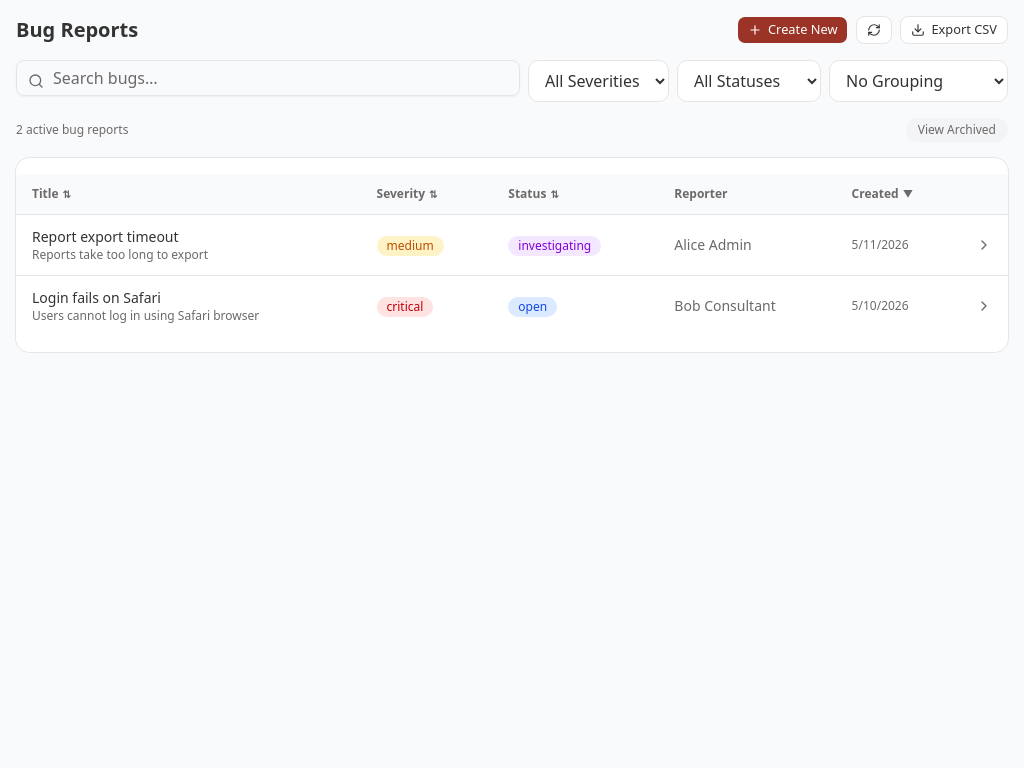
Test: AdminBugs › 9. opens detail panel on row click
Note: Click the first bug row
Step 1. Click the text "Login fails on Safari" → (96, 298), box [32,288,161,307]
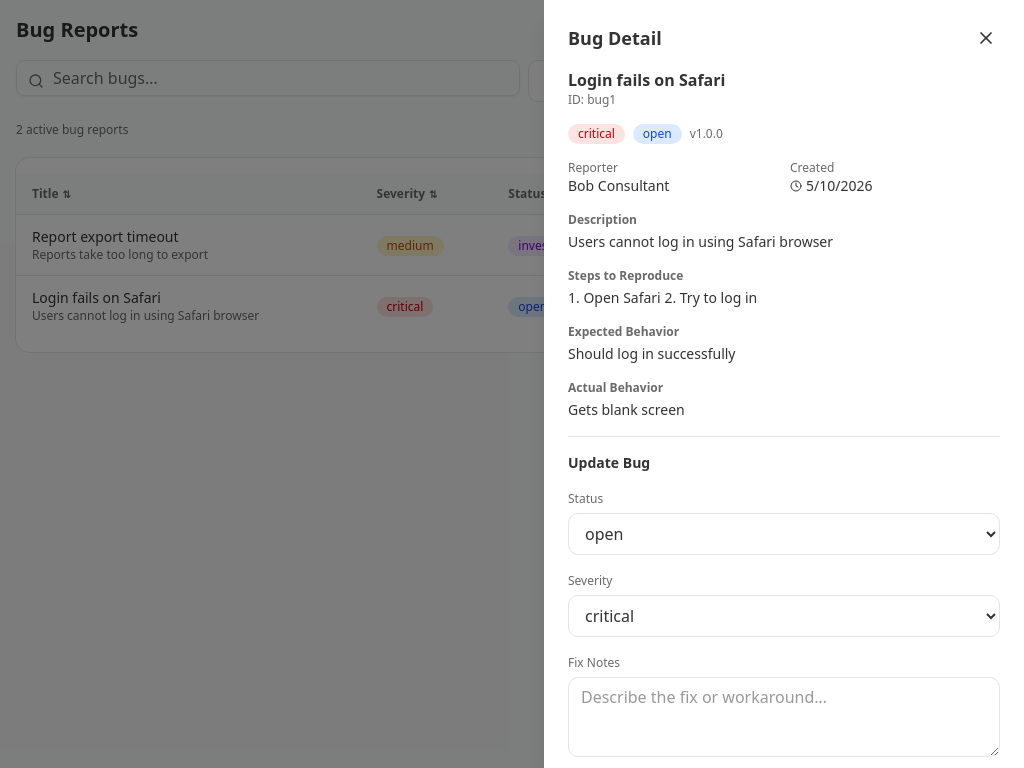
Now the heading "Bug Detail" is shown, box [568,24,662,52]
Now the text "Update Bug" is shown, box [568,453,650,472]
